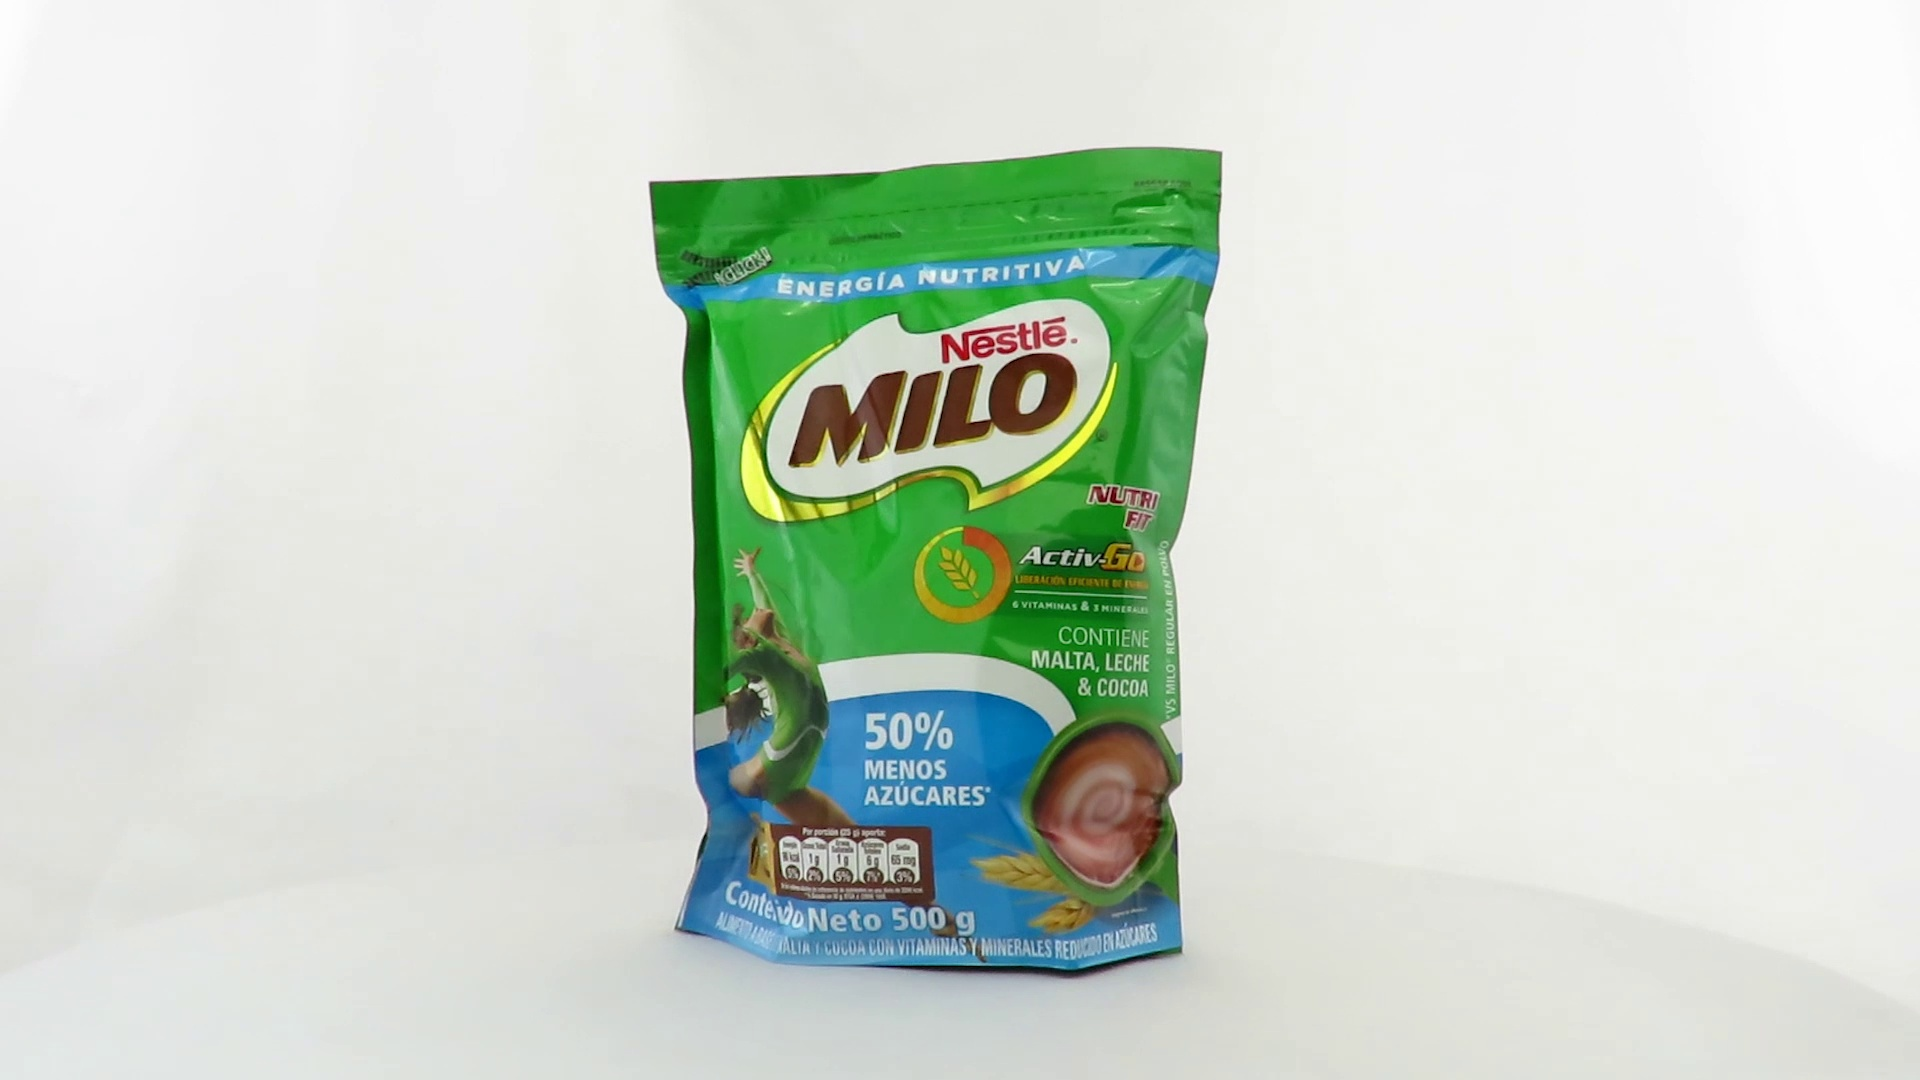COL0170205DYP50000: (644, 141, 1229, 985)
